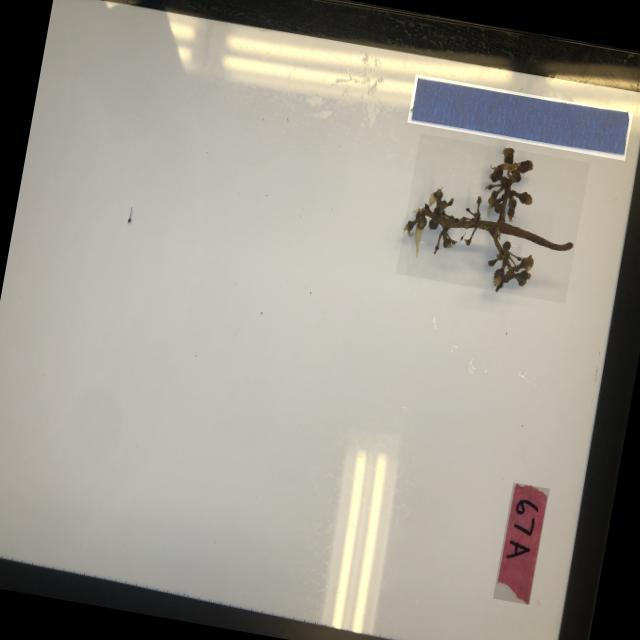index: (492, 482, 548, 604)
measure_label: (406, 74, 632, 160)
rachis_cluster: (394, 132, 588, 303)
